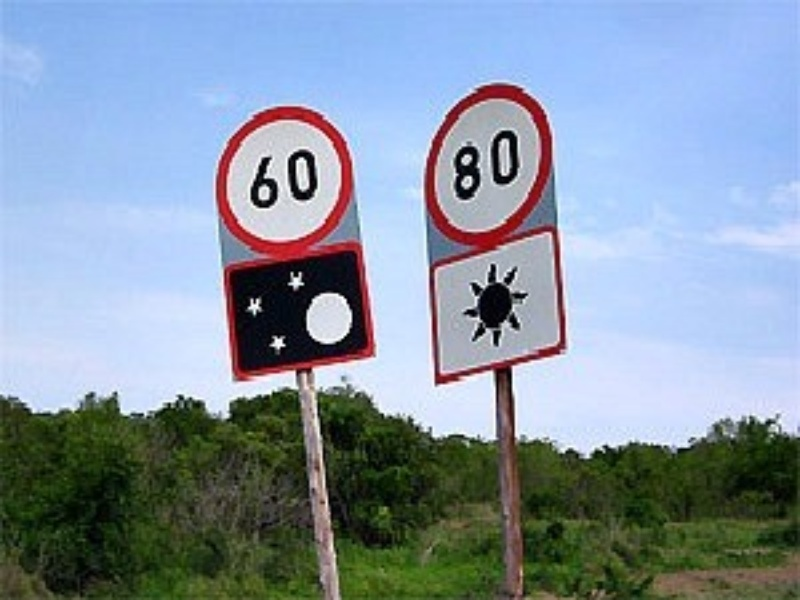text: (465, 121, 480, 206), (481, 121, 496, 206), (497, 121, 512, 206), (451, 121, 464, 206), (257, 147, 272, 211), (273, 147, 288, 211), (289, 147, 304, 211), (513, 121, 523, 206), (305, 147, 318, 211), (254, 147, 256, 211)
